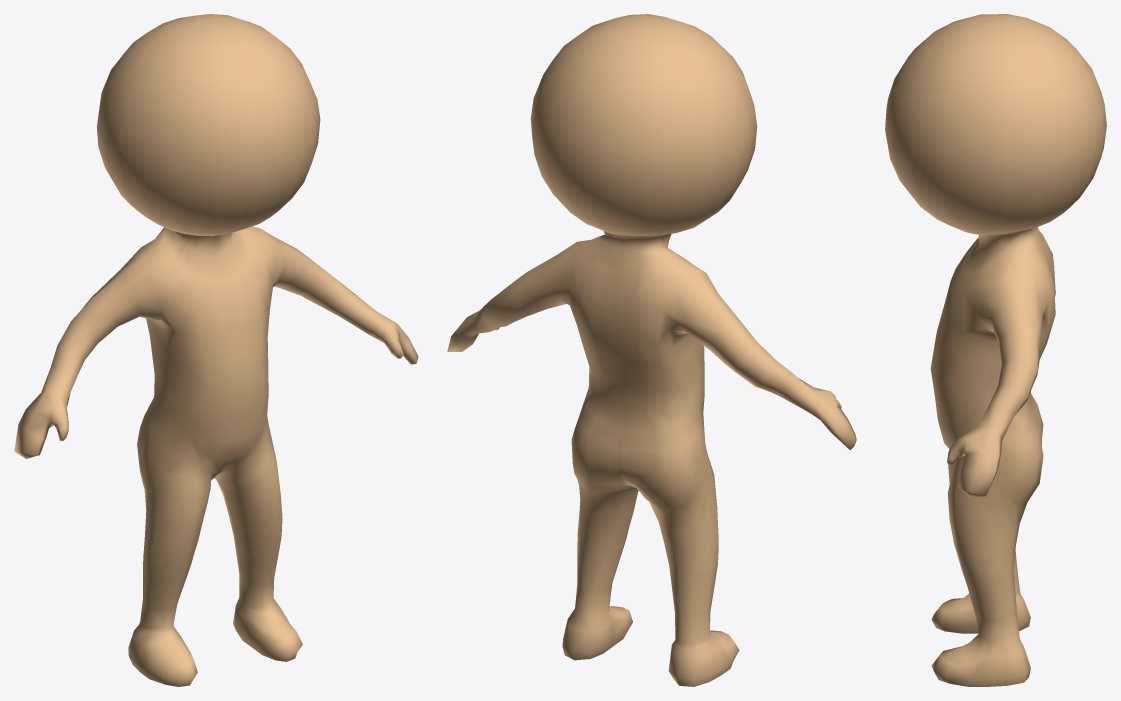
File: StickmanMinner.fbx
3 renders of one model, left to right at view 1: azimuth 30°, elevation 25°; view 2: azimuth 150°, elevation 25°; view 3: azimuth 270°, elevation 25°, orthographic.
Parts seen in each view (by area): view 1: StickmanMinner; view 2: StickmanMinner; view 3: StickmanMinner.
Boxes of the visible parts, x1=… form: StickmanMinner: x1=14, y1=14, x2=418, y2=686; StickmanMinner: x1=447, y1=14, x2=856, y2=686; StickmanMinner: x1=885, y1=14, x2=1106, y2=686.
Bounding box in the file's own units: 1.23 × 1.85 × 0.5932.
